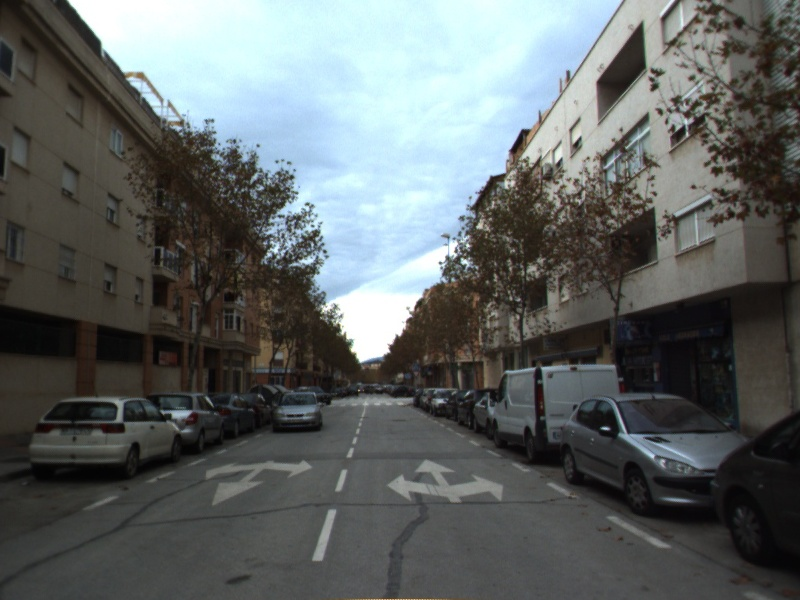STRAIGHT_LEFT_RIGHT: (385, 456, 506, 504)
